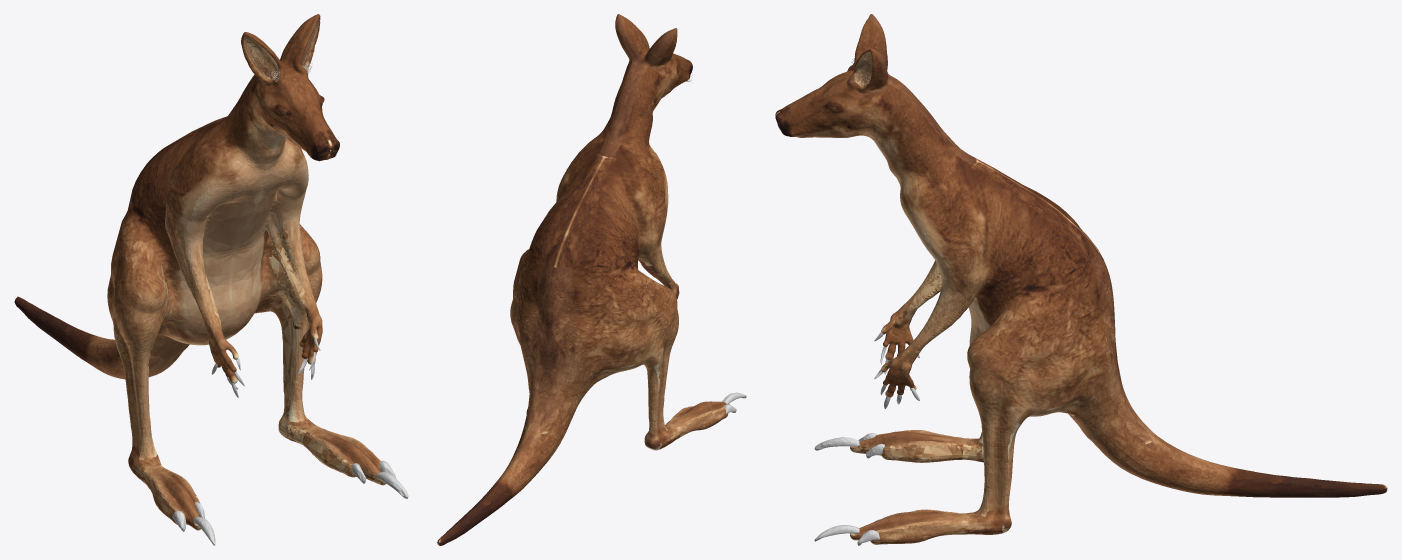
Rendered from kangaroo.gltf.
The picture shows the model from 3 angles, left to right: view 1: azimuth 30°, elevation 25°; view 2: azimuth 150°, elevation 25°; view 3: azimuth 270°, elevation 25°; orthographic projection. The views are drawn at different scales.
Visible parts, largest first — view 1: Object.1; view 2: Object.1; view 3: Object.1.
Part boxes in pixels (bbox=[...]): Object.1: bbox=[14, 14, 408, 545]; Object.1: bbox=[437, 14, 746, 545]; Object.1: bbox=[775, 14, 1387, 545].
Bounding box in the file's own units: 55.67 × 119 × 141.
Materials: 11 (8 with a texture image).
